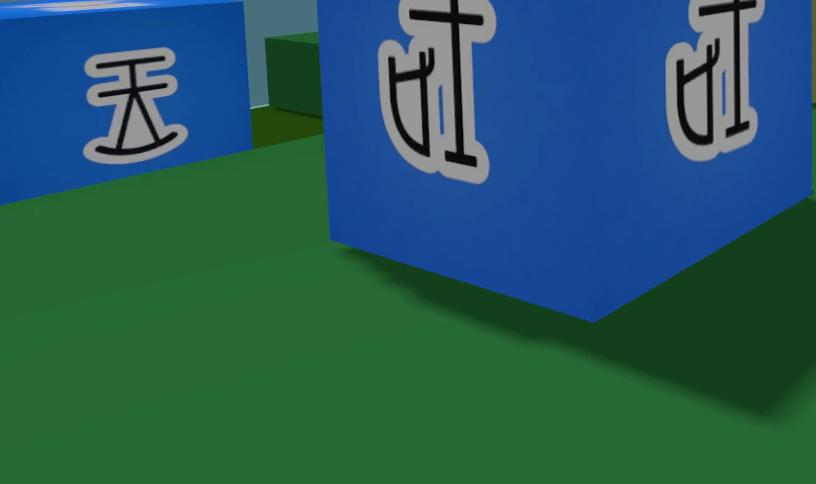KFS_REAL: (317, 0, 813, 320), (0, 0, 250, 203), (377, 0, 495, 183), (665, 0, 765, 161), (82, 49, 187, 164)
